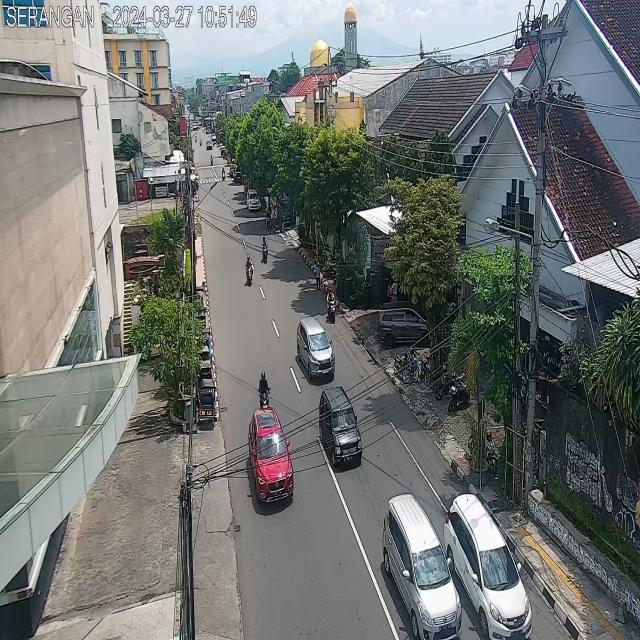car: (443, 496, 535, 640), (382, 492, 462, 640), (249, 407, 295, 505), (319, 386, 363, 469), (296, 316, 336, 381), (247, 187, 260, 213)
motorcycle: (258, 369, 272, 412), (324, 283, 336, 322), (246, 254, 254, 286), (261, 235, 269, 265)
